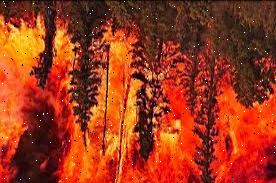fire: (0, 12, 274, 183)
